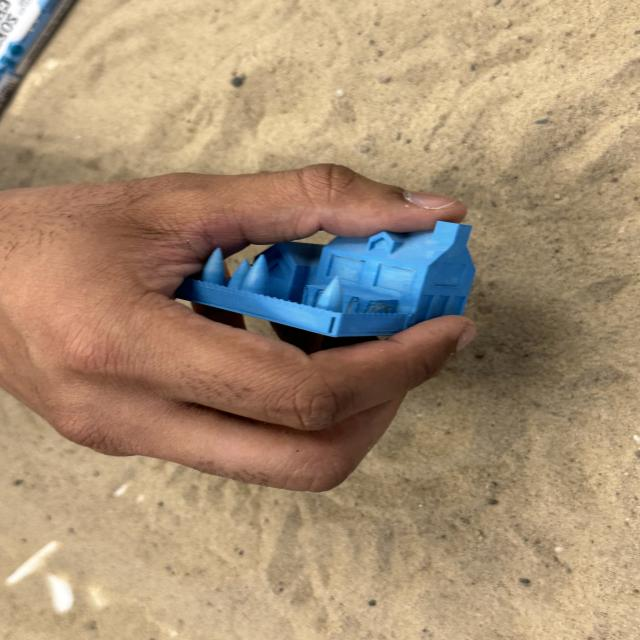house: (174, 219, 476, 339)
